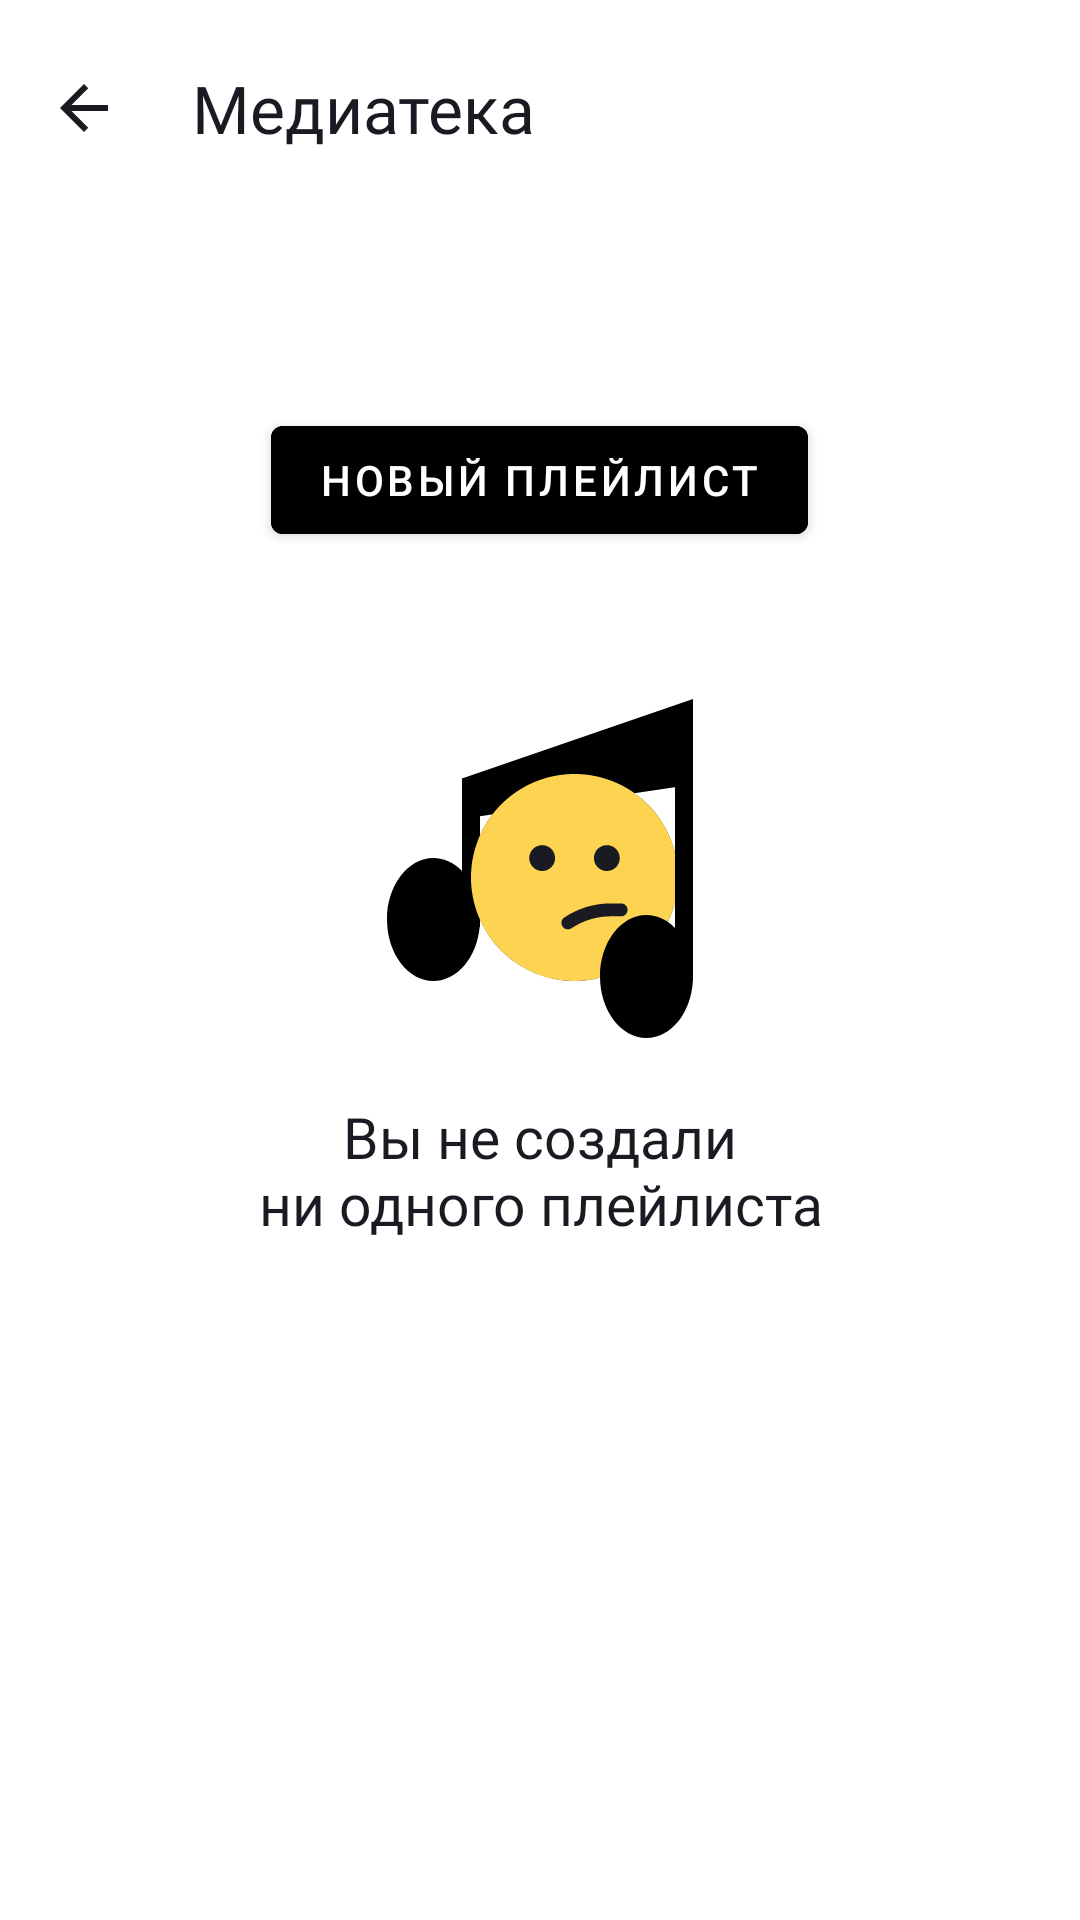

Icons on this 1080 x 1920 Android screen, each with its box as [x1=x1, y1=y1, x2=x2, y2=y2]:
back: [x1=60, y1=84, x2=108, y2=132]
no song: [x1=387, y1=699, x2=693, y2=1038]
